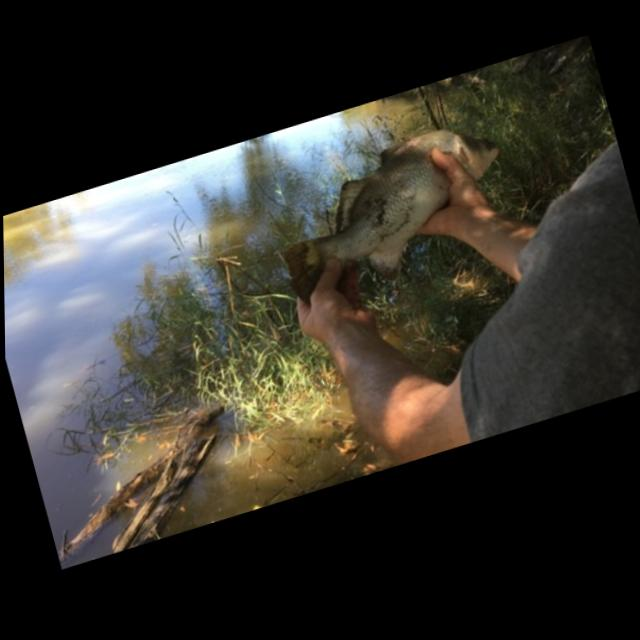Seabass: (262, 110, 527, 310)
